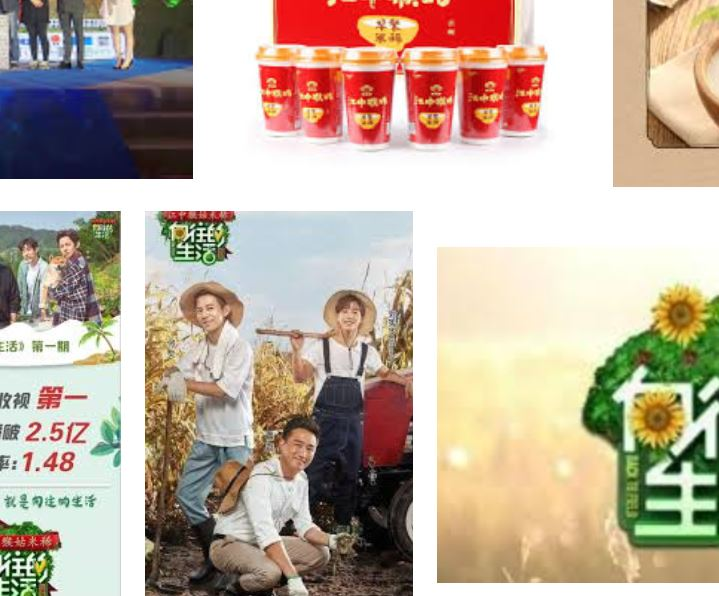box: (269, 1, 521, 46)
cup: (341, 49, 396, 150), (403, 49, 456, 149), (296, 46, 343, 142), (457, 49, 504, 143), (256, 45, 301, 134), (503, 45, 544, 134)
